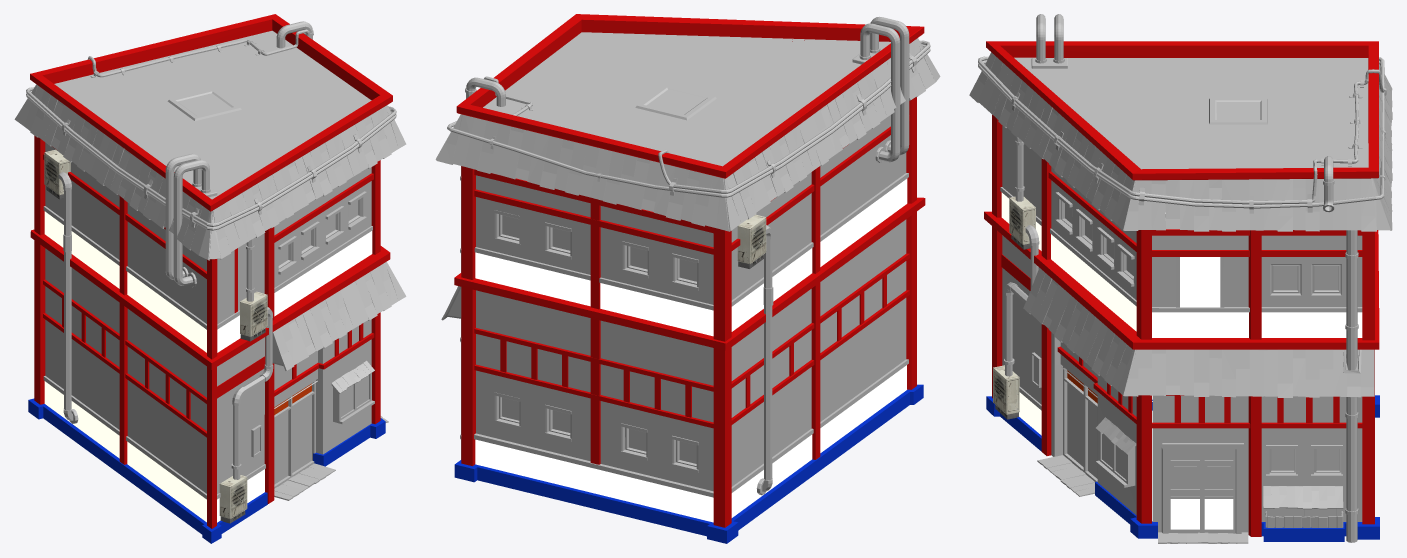
File: SM_ENV_KNVLLG_AreaG_Building_H.mo.fbx
3 renders of one model, left to right at view 1: azimuth 30°, elevation 25°; view 2: azimuth 150°, elevation 25°; view 3: azimuth 270°, elevation 25°, orthographic. The views are drawn at different scales.
Parts seen in each view (by area): view 1: SM_ENV_KNVLLG_AreaG_Building_H.mo; view 2: SM_ENV_KNVLLG_AreaG_Building_H.mo; view 3: SM_ENV_KNVLLG_AreaG_Building_H.mo.
Part boxes in pixels (<box>): SM_ENV_KNVLLG_AreaG_Building_H.mo: <box>14,14,406,543</box>; SM_ENV_KNVLLG_AreaG_Building_H.mo: <box>435,14,940,543</box>; SM_ENV_KNVLLG_AreaG_Building_H.mo: <box>969,14,1392,543</box>.
Size of the model in its own units: 10.71 by 13.55 by 13.21.
